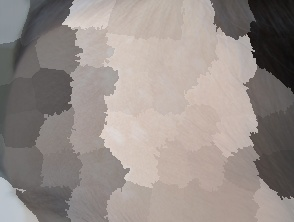vitiligo: (60, 0, 294, 222)
